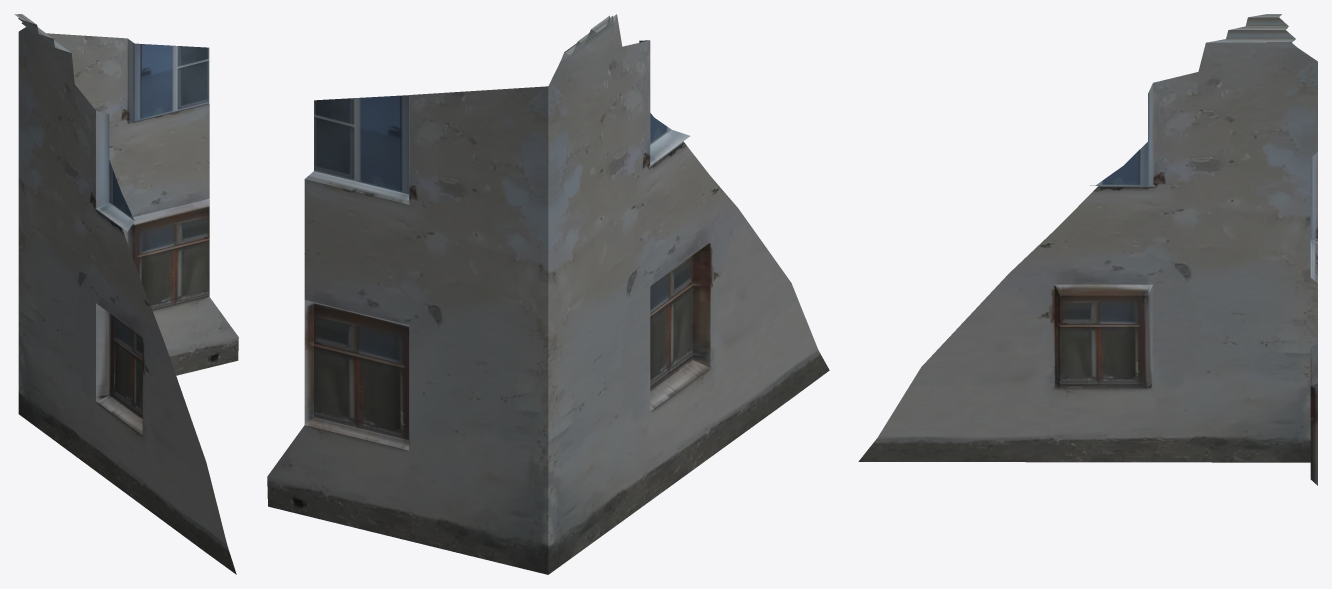
Rendered from House_03_06.fbx.
The picture shows the model from 3 angles, left to right: view 1: azimuth 30°, elevation 25°; view 2: azimuth 150°, elevation 25°; view 3: azimuth 270°, elevation 25°; orthographic projection. The views are drawn at different scales.
Visible parts, largest first — view 1: Дом2.006; view 2: Дом2.006; view 3: Дом2.006.
Part boxes in pixels (left/top/right/bottom): Дом2.006: left=14, top=14, right=238, bottom=574; Дом2.006: left=267, top=14, right=829, bottom=574; Дом2.006: left=858, top=14, right=1317, bottom=485.
Bounding box in the file's own units: 7.46 × 12.33 × 11.73.
1 material, 1 textured.
